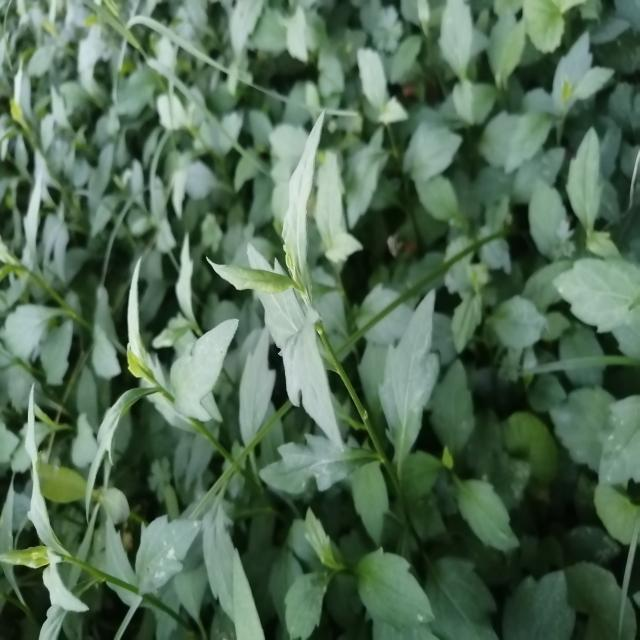Indian aster: (204, 131, 441, 533), (0, 409, 173, 623)
